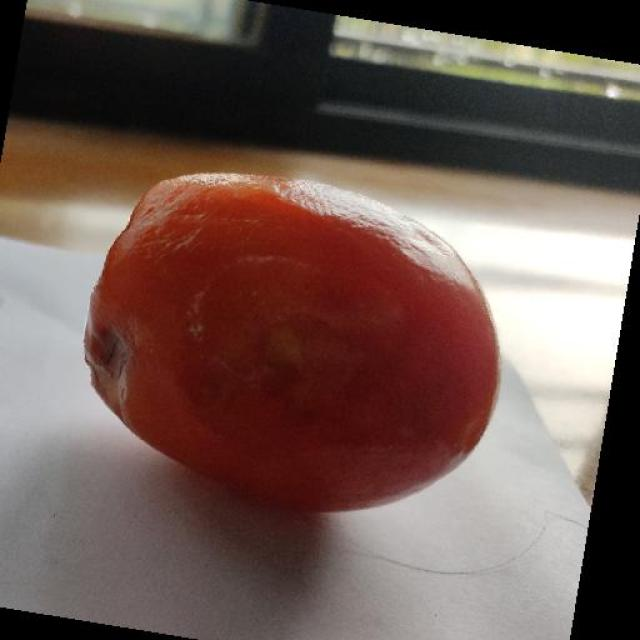Stale_tomato: (64, 171, 535, 529)
